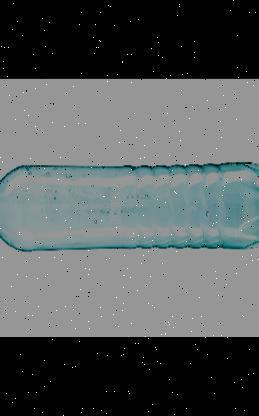Plastic Bottle: (0, 163, 259, 252)
